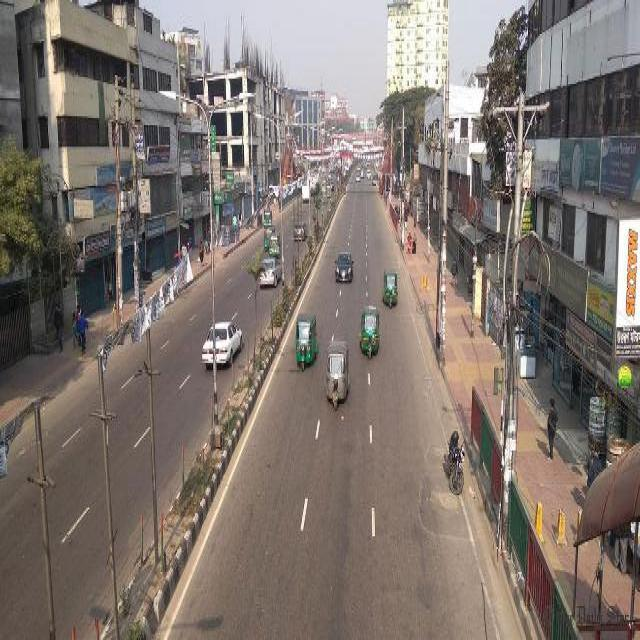bike: (443, 424, 466, 492)
vehicle: (202, 318, 245, 367), (324, 336, 350, 406), (294, 309, 321, 372), (358, 302, 381, 359), (381, 263, 399, 307), (258, 255, 282, 287), (335, 249, 354, 279), (292, 219, 308, 242), (270, 230, 282, 253), (262, 206, 274, 224), (263, 226, 270, 253), (301, 182, 310, 201), (355, 171, 362, 183), (328, 185, 331, 198)
